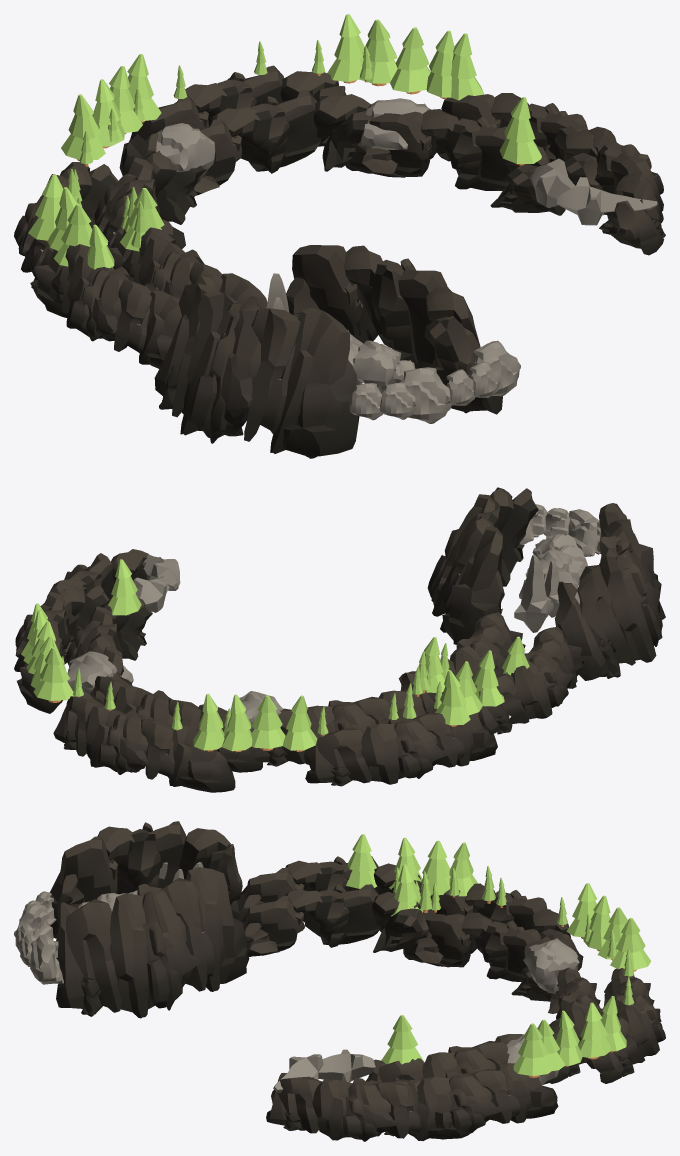
The model's file is BasicMapWalls.fbx.
The picture shows the model from 3 angles, top to bottom: view 1: azimuth 30°, elevation 25°; view 2: azimuth 150°, elevation 25°; view 3: azimuth 270°, elevation 25°; orthographic projection. The views are drawn at different scales.
Parts seen in each view (by area): view 1: rock.004, rock.040, rock.016, rock.011, rock.023, rock.010, rock.020, rock.012, rock.013, rock.018, rock.014, rock.062 (+25 smaller); view 2: rock.004, rock.040, rock.014, rock.010, rock.023, rock.016, rock.012, rock.018, rock.011, rock.013, rock.020, rock.043 (+22 smaller); view 3: rock.040, rock.004, rock.020, rock.013, rock.018, rock.012, rock.010, rock.023, rock.014, rock.011, rock.016, rock.062 (+20 smaller).
Part boxes in pixels (box(x1,y1,x2,y2)): rock.004: box(154, 276, 359, 458); rock.040: box(286, 245, 502, 414); rock.016: box(194, 89, 372, 195); rock.011: box(345, 109, 565, 215); rock.023: box(51, 244, 181, 368); rock.010: box(119, 65, 346, 175); rock.020: box(545, 125, 665, 255); rock.012: box(94, 150, 207, 269); rock.013: box(122, 219, 267, 308); rock.018: box(441, 93, 602, 190); rock.014: box(14, 162, 118, 317); rock.062: box(154, 123, 215, 174); rock.004: box(554, 503, 665, 680); rock.040: box(427, 487, 538, 644); rock.014: box(304, 712, 497, 786); rock.010: box(53, 691, 235, 792); rock.023: box(478, 626, 583, 734); rock.016: box(90, 673, 262, 772); rock.012: box(251, 690, 425, 766); rock.018: box(14, 585, 109, 713); rock.011: box(65, 596, 152, 675); rock.013: box(398, 612, 525, 713); rock.020: box(24, 549, 160, 653); rock.043: box(514, 555, 553, 632); rock.040: box(56, 867, 249, 1018); rock.004: box(49, 821, 242, 938); rock.020: box(266, 1073, 470, 1141); rock.013: box(241, 884, 429, 956); rock.018: box(369, 1063, 558, 1137); rock.012: box(403, 912, 553, 1001); rock.010: box(578, 968, 665, 1083); rock.023: box(230, 856, 421, 921); rock.014: box(422, 883, 583, 971); rock.011: box(366, 1034, 548, 1084); rock.016: box(547, 967, 603, 1083); rock.062: box(523, 938, 579, 993).
Bounding box in the file's own units: 10555 × 2376 × 12166.
